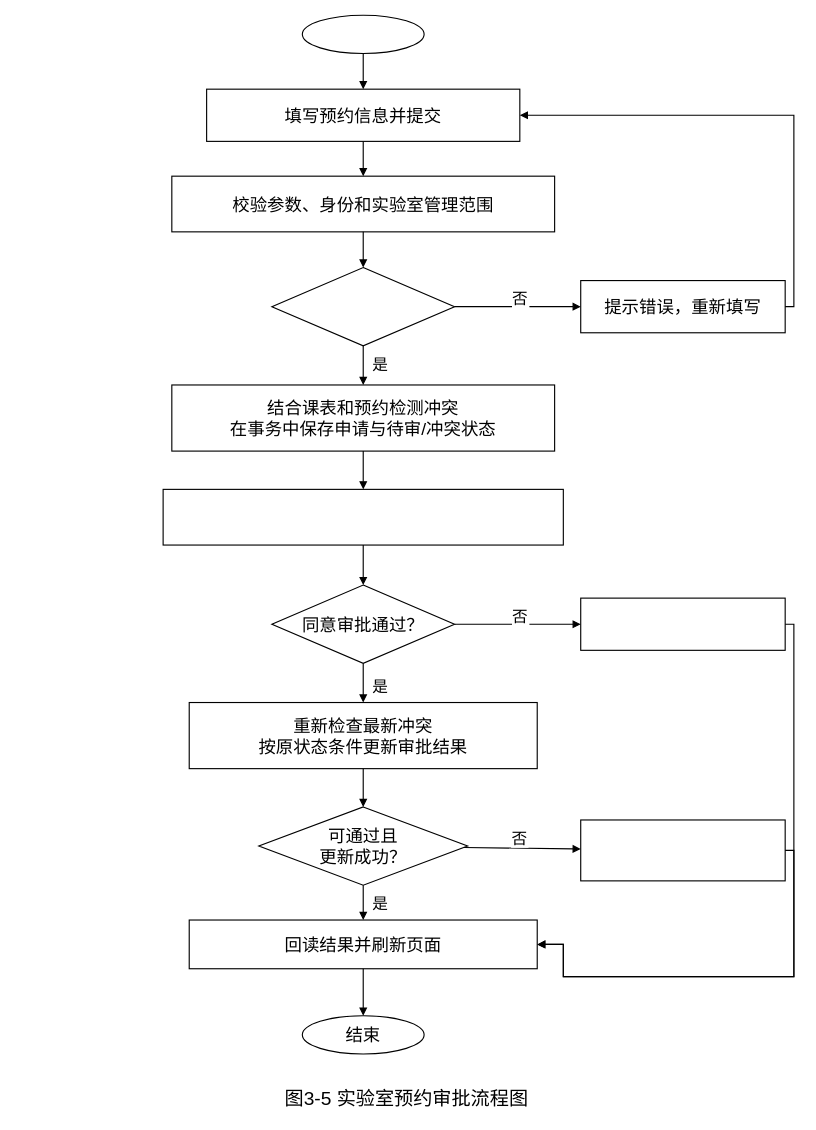
Image size: 816x1130. Some labels were removed from this diagram. Here are the shapes that lost their labels. From the top down, the box of each, then its label:
(301, 14, 424, 54): 开始
(271, 267, 455, 346): 请求有效？
(162, 488, 563, 545): 管理员校验权限、记录范围及当前状态
(580, 597, 785, 650): 保存驳回状态及原因
(580, 819, 785, 881): 提示冲突或记录已变化 不覆盖其他人的更新
